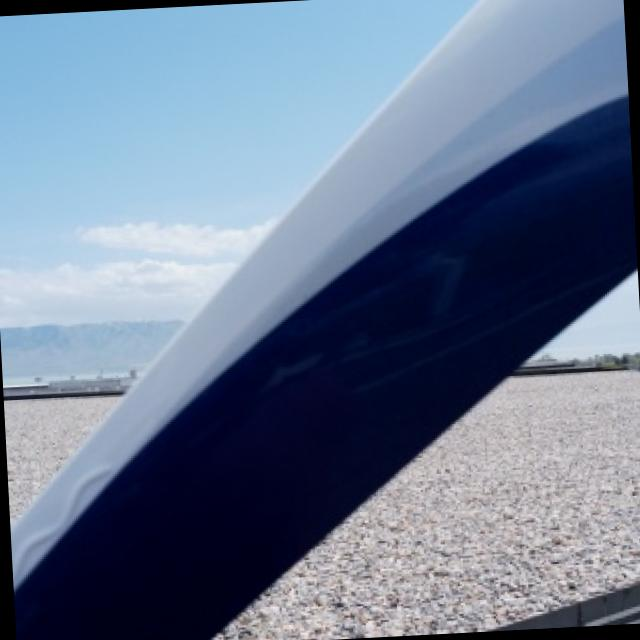healthy: (17, 0, 638, 640)
